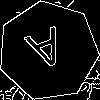A: (23, 26, 72, 81)
